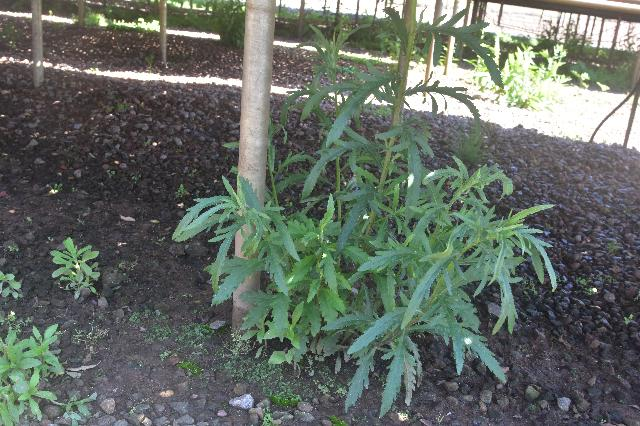MalezaMontesDelPlata: (353, 188, 569, 388), (297, 20, 476, 243), (180, 174, 365, 365), (0, 316, 75, 417), (45, 228, 105, 309)
